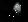person: (14, 3, 22, 17)
